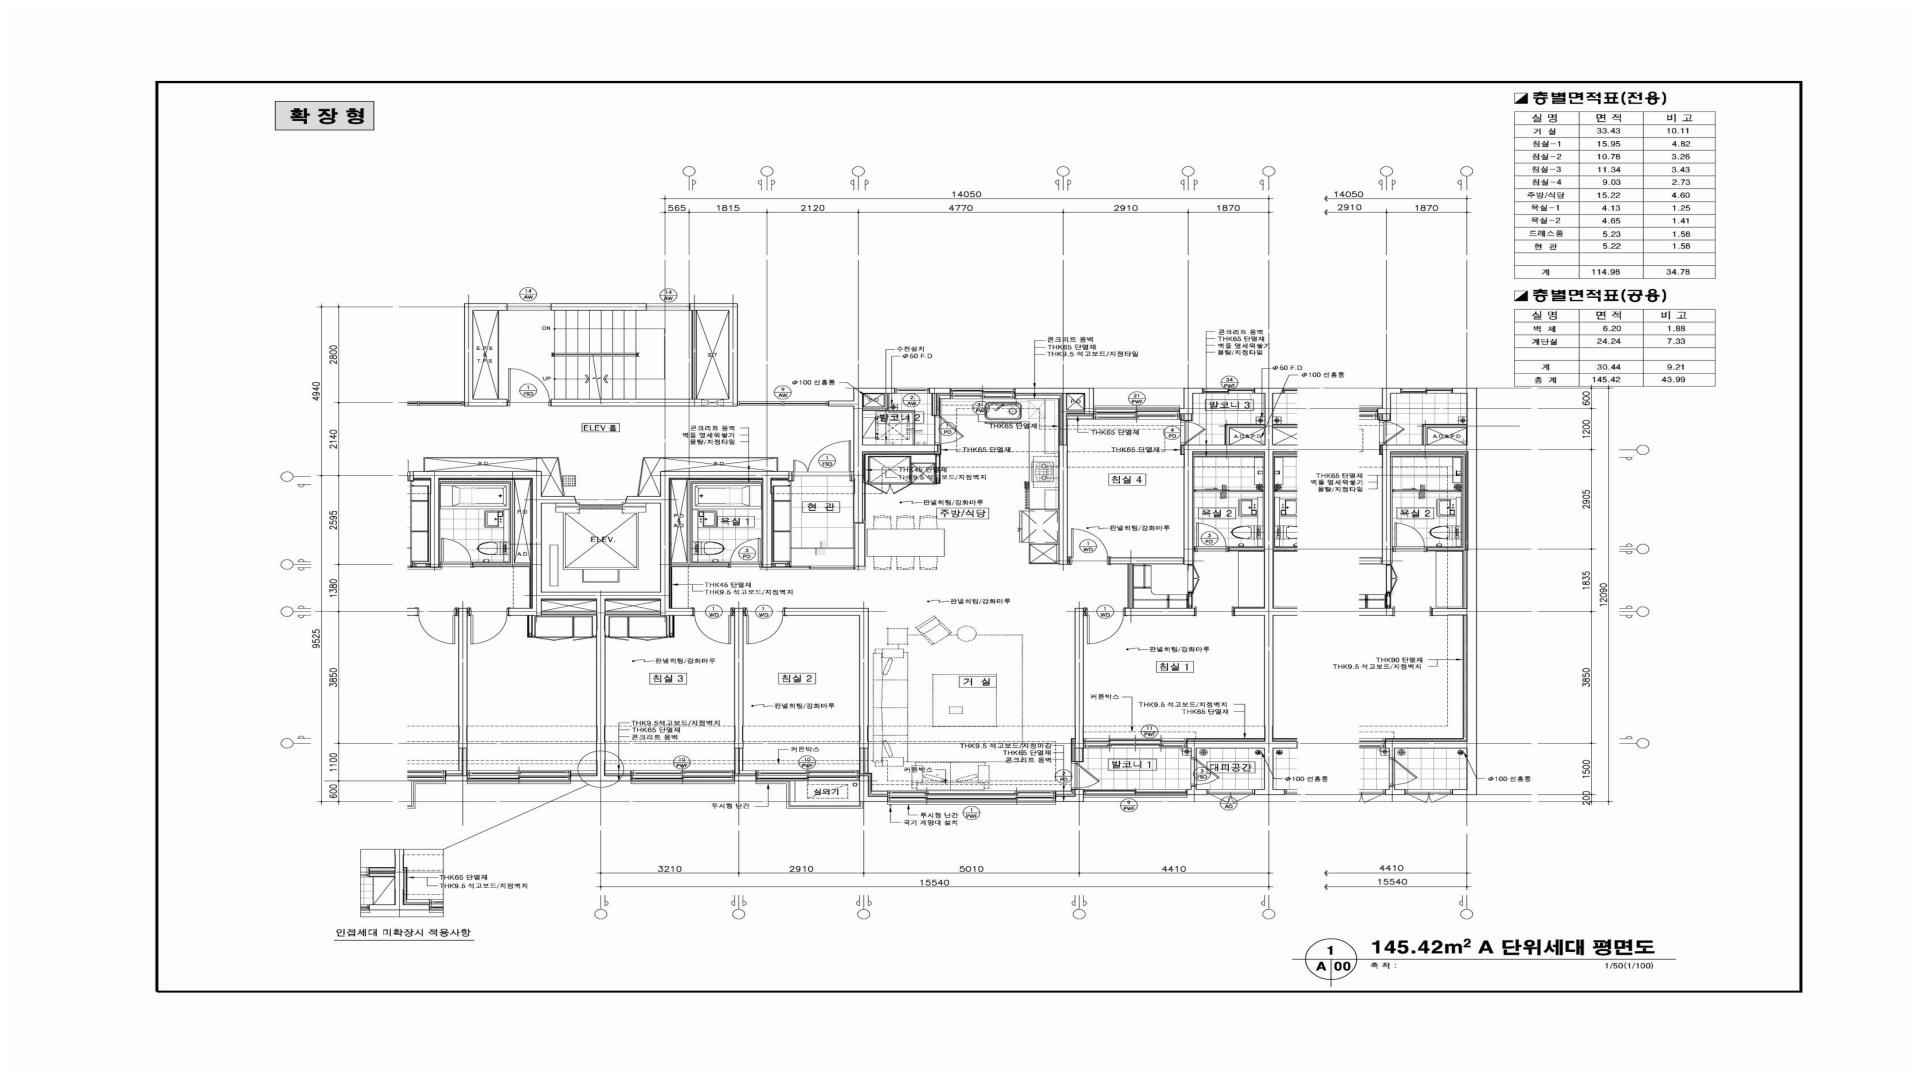door: (792, 440, 854, 477), (507, 368, 551, 406), (1083, 608, 1125, 644), (1067, 528, 1109, 564), (743, 608, 784, 644), (693, 608, 734, 644), (1193, 522, 1229, 552), (729, 538, 763, 567), (934, 415, 964, 445), (1191, 758, 1220, 786), (1071, 762, 1100, 789), (1180, 421, 1206, 445), (1195, 606, 1234, 615), (1193, 489, 1265, 492), (790, 566, 854, 569)
wall: (413, 471, 792, 781), (1184, 388, 1273, 795), (551, 304, 737, 406), (828, 388, 938, 523), (784, 608, 869, 748), (671, 479, 763, 567), (423, 457, 565, 496), (637, 457, 778, 496), (464, 304, 508, 406), (1015, 388, 1094, 414), (1075, 608, 1084, 748), (734, 608, 743, 748), (1062, 394, 1085, 445), (1059, 445, 1068, 564), (1225, 424, 1264, 445), (859, 776, 887, 802), (1180, 388, 1203, 414), (734, 748, 756, 774), (551, 304, 646, 310), (853, 523, 865, 569), (1109, 557, 1184, 564), (1124, 608, 1195, 615), (692, 310, 697, 399), (863, 394, 888, 410), (1055, 789, 1084, 802), (859, 748, 869, 774), (605, 611, 661, 615), (1128, 564, 1133, 608), (1187, 786, 1207, 795), (1015, 395, 1060, 399), (1229, 546, 1264, 551), (1193, 454, 1264, 456), (931, 393, 937, 415), (1075, 748, 1084, 762), (734, 776, 756, 781), (669, 615, 674, 637), (930, 388, 950, 393), (498, 310, 499, 399), (1067, 416, 1094, 419), (605, 771, 631, 774), (772, 563, 790, 567), (1188, 592, 1192, 608), (1184, 414, 1193, 421), (871, 791, 887, 794), (1056, 791, 1072, 794), (939, 395, 950, 398)
window: (887, 791, 1056, 805), (631, 770, 734, 784), (1094, 406, 1180, 420), (756, 770, 859, 781), (1084, 738, 1187, 748), (1084, 789, 1187, 798), (950, 388, 1015, 399), (1207, 789, 1254, 802), (737, 401, 828, 406), (1203, 388, 1254, 394), (407, 401, 464, 406), (507, 304, 551, 310), (646, 304, 689, 310), (896, 388, 930, 393)
